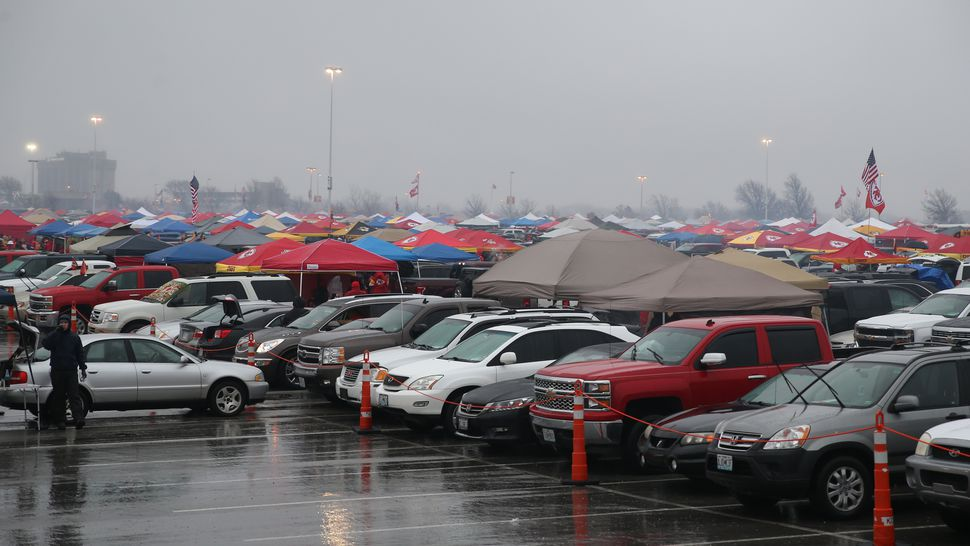empyt_space: (165, 477, 695, 543)
